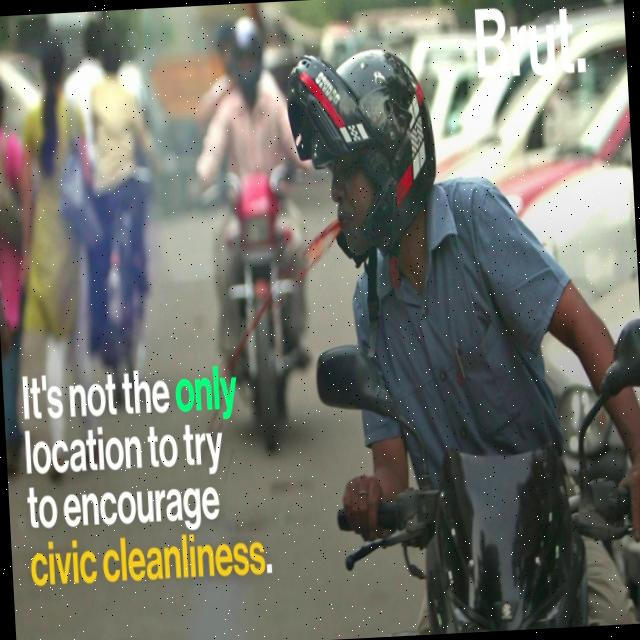spit: (206, 161, 382, 423)
